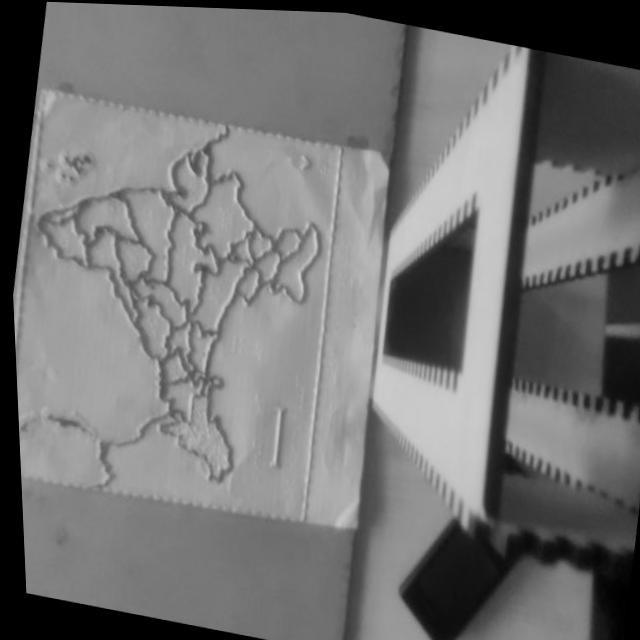map: (0, 91, 345, 521)
